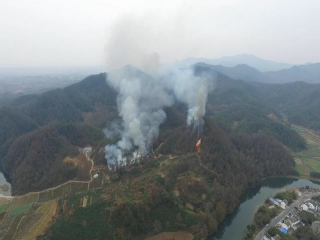smoke: (103, 11, 172, 172), (176, 70, 217, 137)
